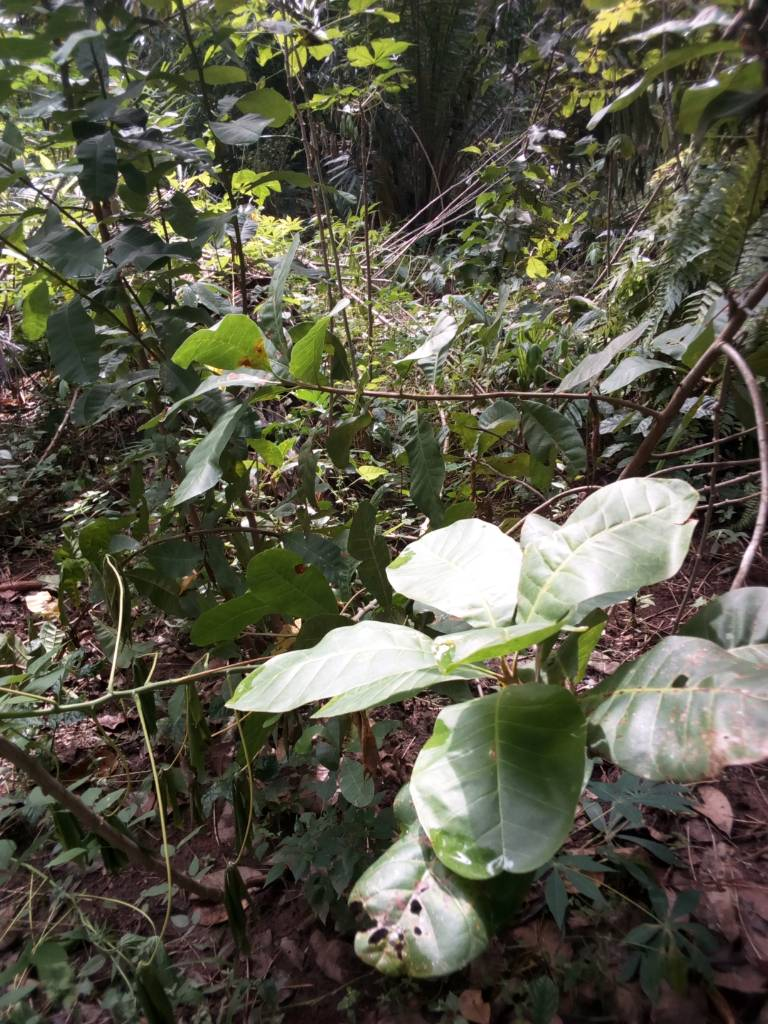Anoplonemis curvipes: (644, 641, 768, 783), (350, 889, 488, 969)
